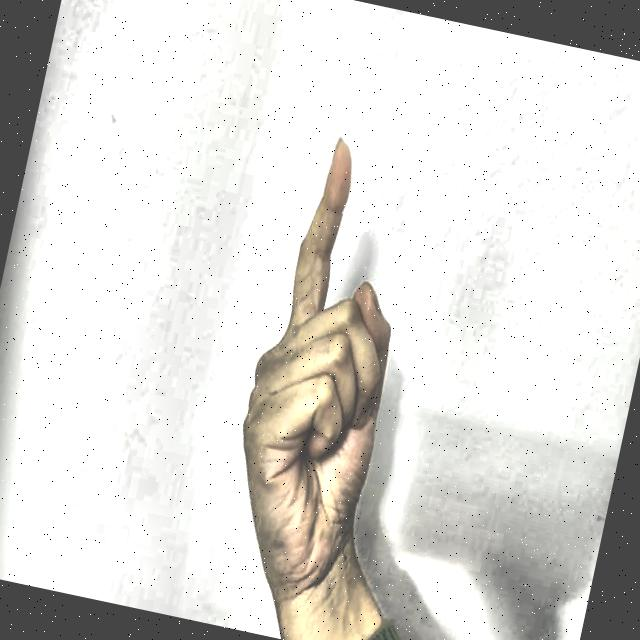U: (190, 99, 483, 598)
